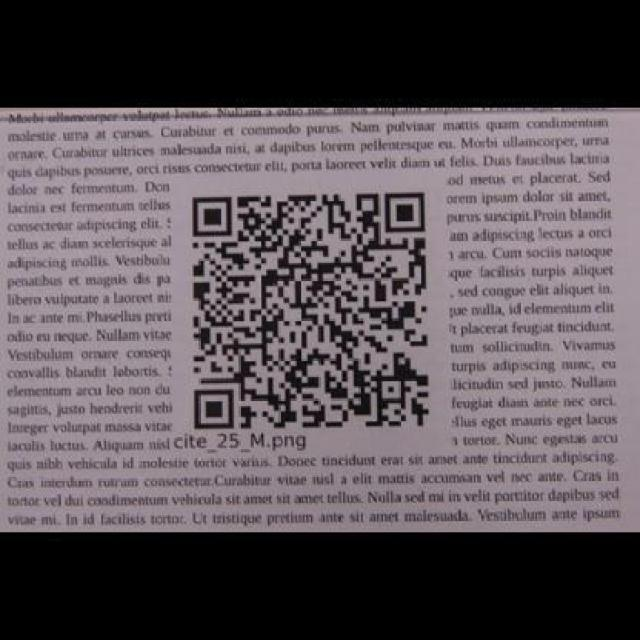QRCode: (182, 185, 438, 432)
